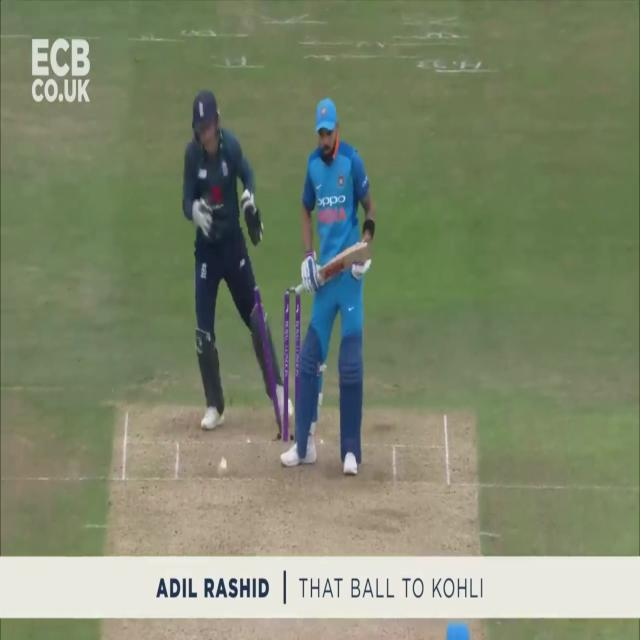cricketBall: (220, 458, 228, 476)
